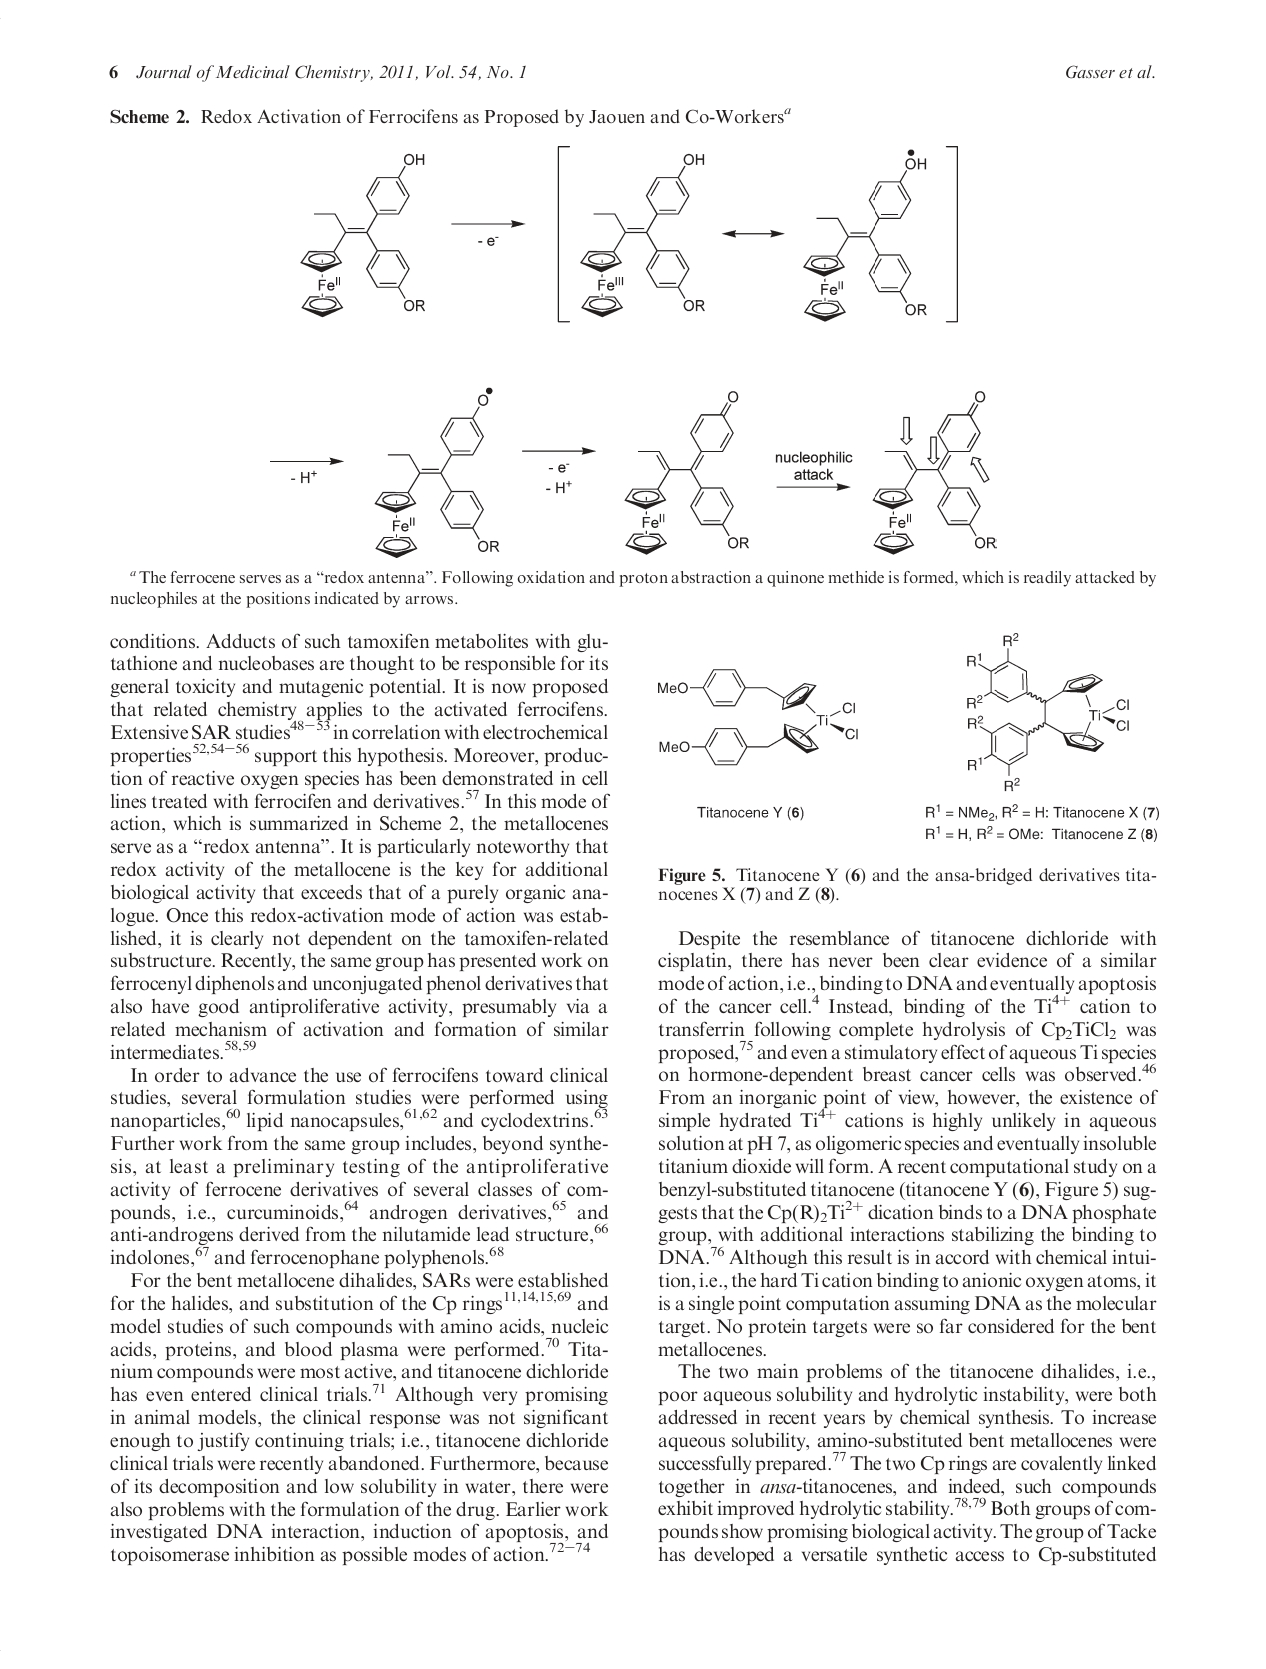exist_molecular: (957, 630, 1134, 793), (862, 388, 1019, 561), (801, 148, 932, 324), (370, 387, 505, 559), (297, 152, 431, 324), (622, 390, 759, 557), (652, 662, 862, 770), (581, 150, 709, 323)
